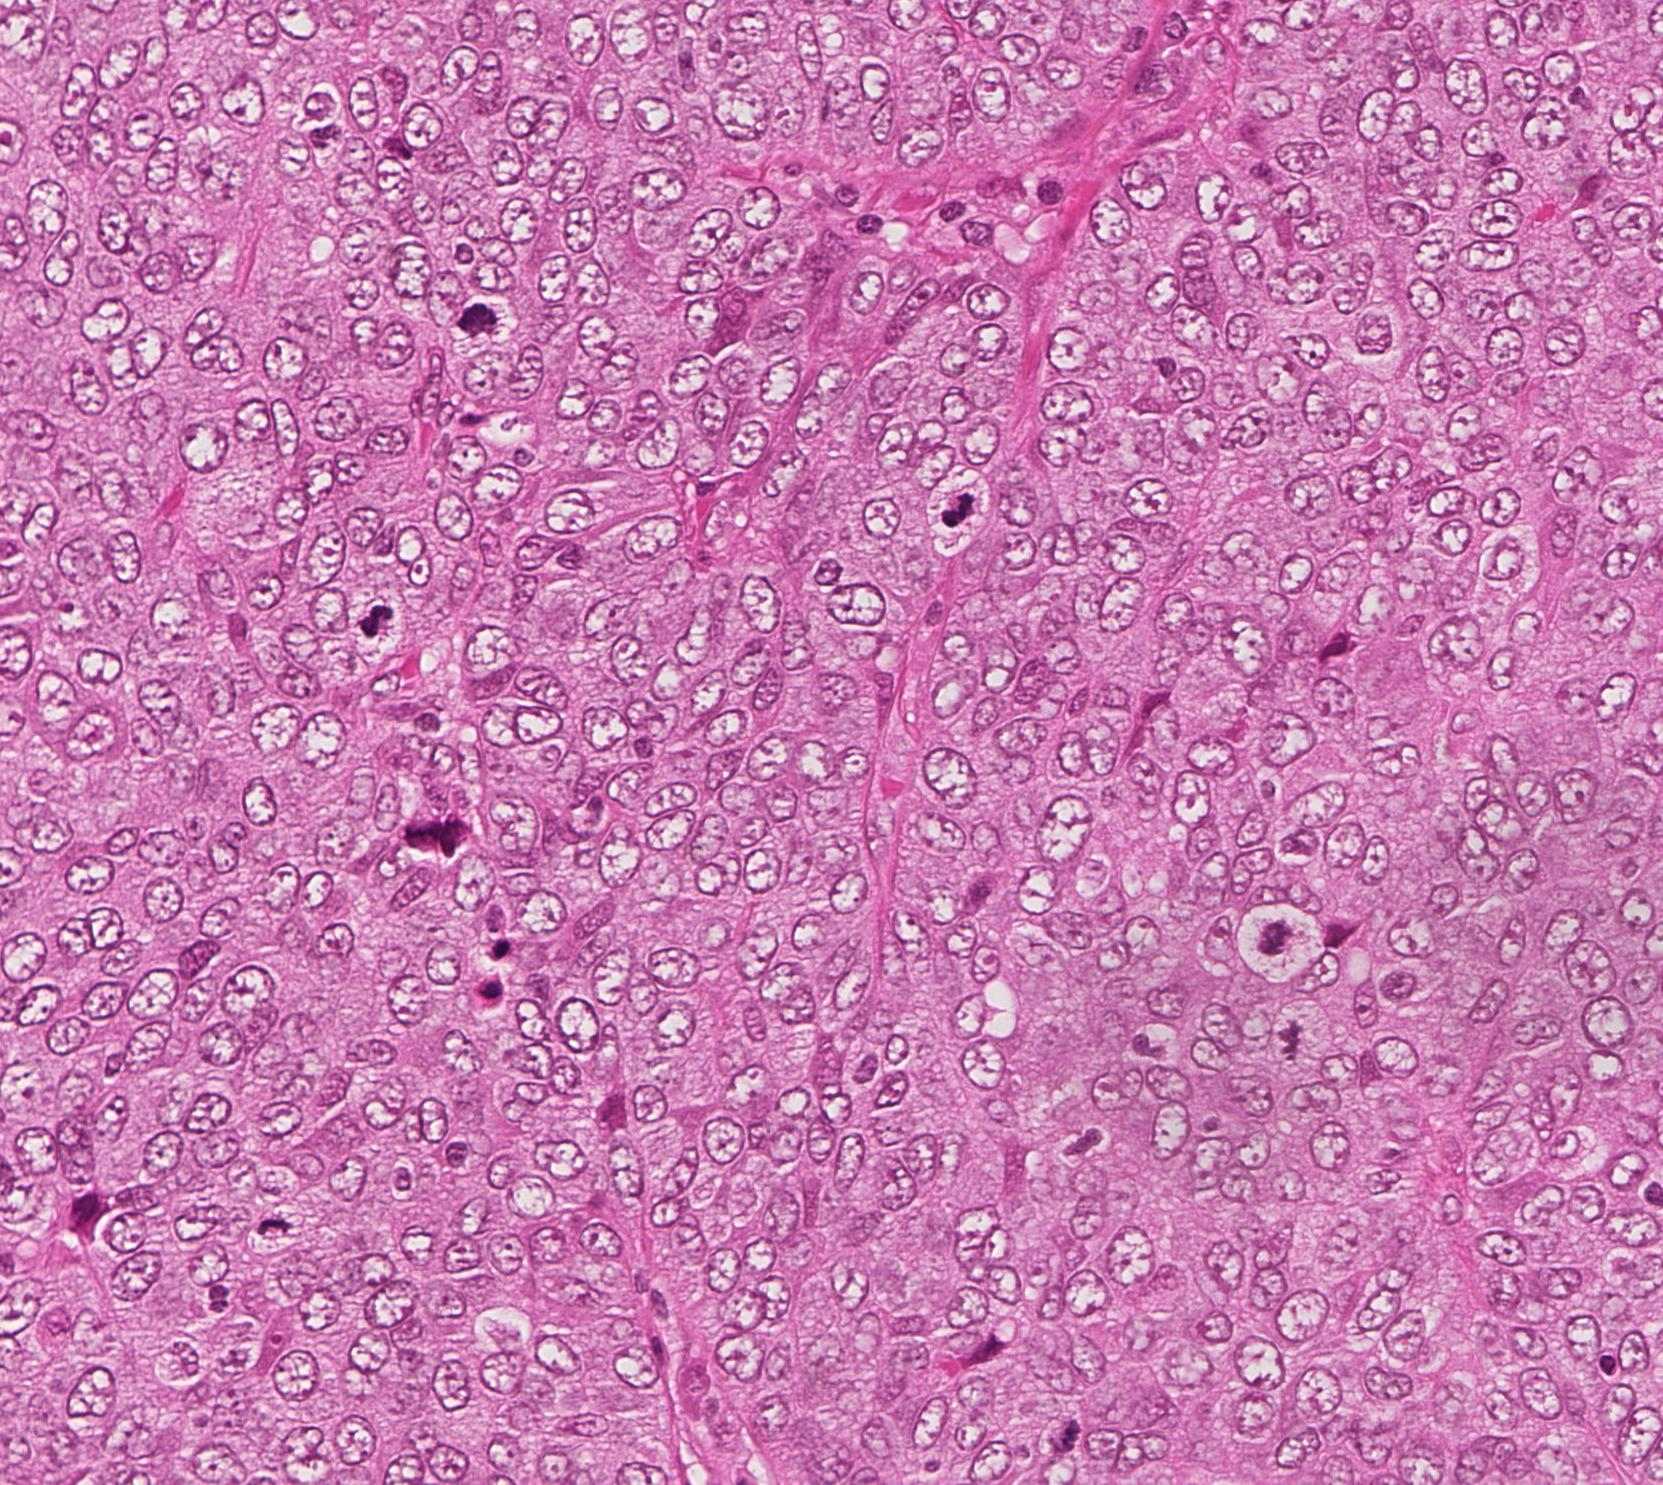mitosis: (453, 284, 513, 344), (933, 474, 993, 535), (249, 1188, 310, 1248), (1037, 1396, 1095, 1456), (1249, 899, 1307, 959), (343, 585, 401, 645), (1267, 1011, 1328, 1069)
